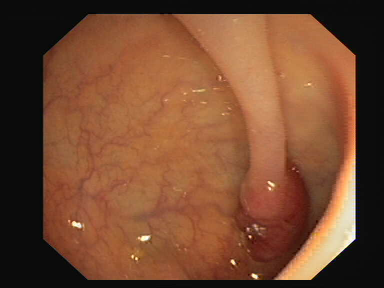polyp: (215, 107, 320, 256)
